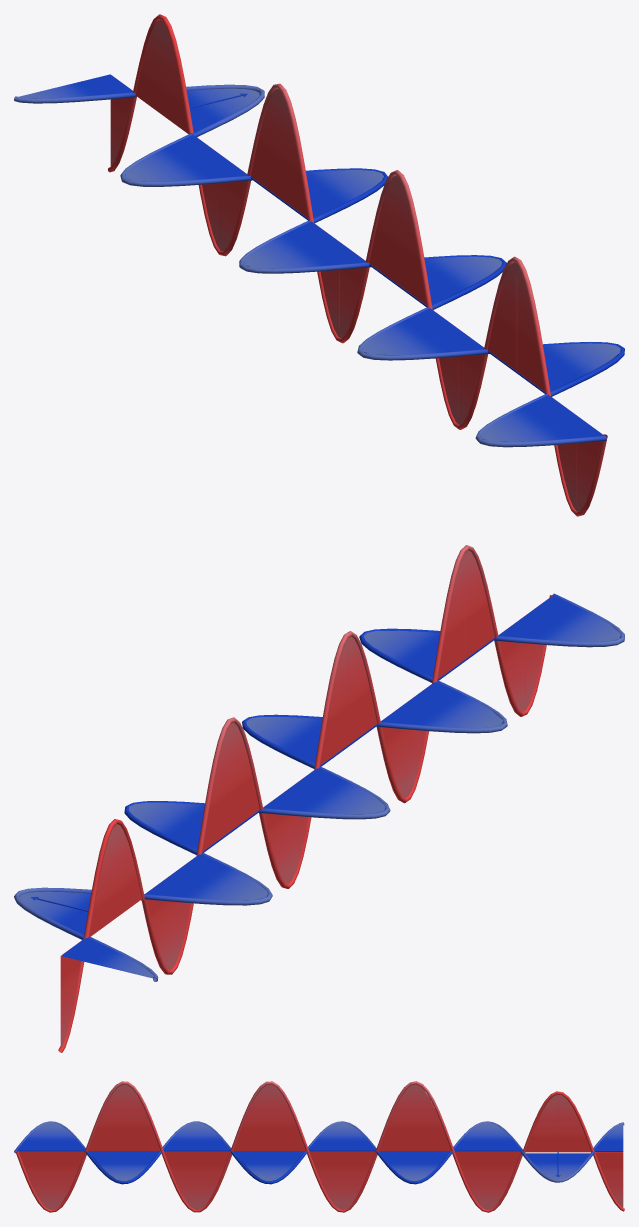
The model's file is Visible.glb.
3 views of the same model, one above another, from view 1: azimuth 30°, elevation 25°; view 2: azimuth 150°, elevation 25°; view 3: azimuth 270°, elevation 25° (orthographic). The views are drawn at different scales.
Parts seen in each view (by area): view 1: Visible; view 2: Visible; view 3: Visible.
Part boxes in pixels (x1,y1,x2,y2): Visible: (14,14,624,516); Visible: (14,545,624,1052); Visible: (14,1081,624,1212).
Bounding box in the file's own units: 1.33 × 1.33 × 5.6.
5 materials, 5 textured.
